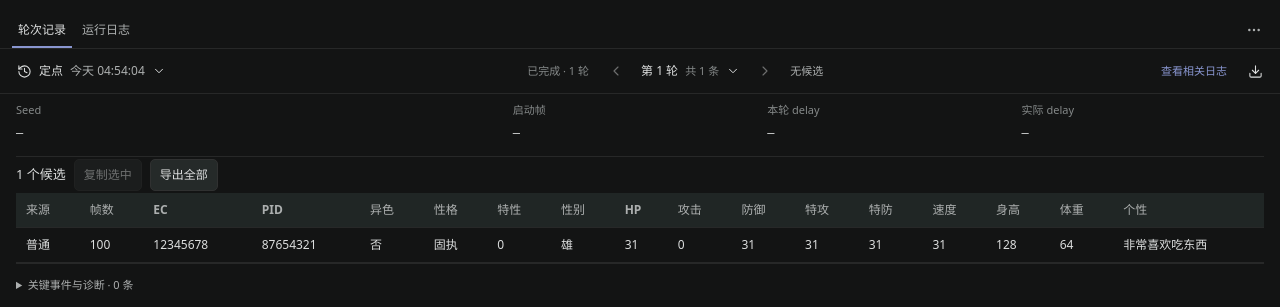
Test case: switching runs clears the selected candidate instead of silently selecting another row
Click the cell "100". click: (112, 244)
box: [80,227,143,262]
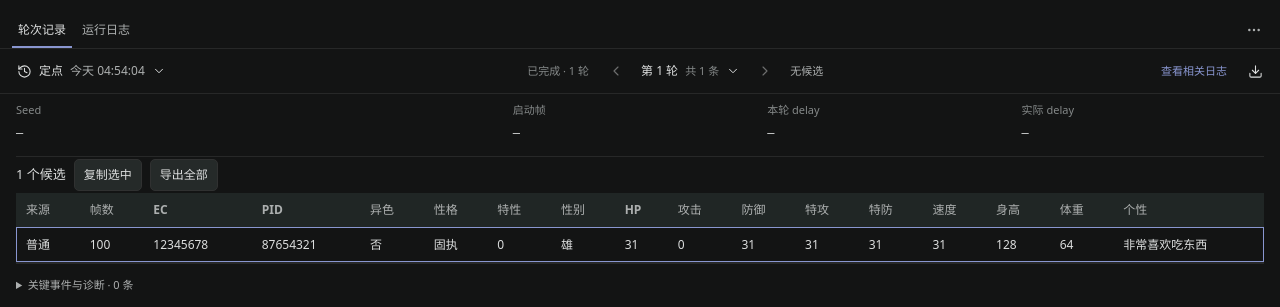
Check: the button "复制选中" is enabled, box [74,158,142,190]
Click the button with aria-label "切换运行记录". click: (91, 71)
box: [10,55,173,87]
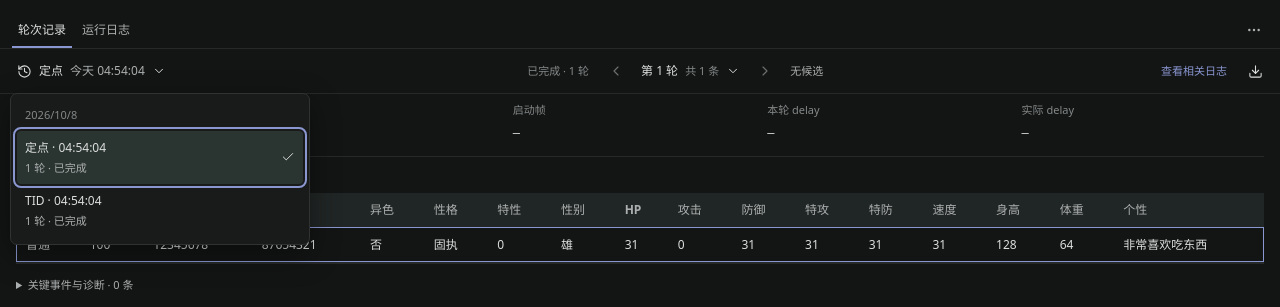
Click the menu item "TID · 04:54:04 1 轮 · 已完成". click: (63, 200)
box: [17,184,303,238]
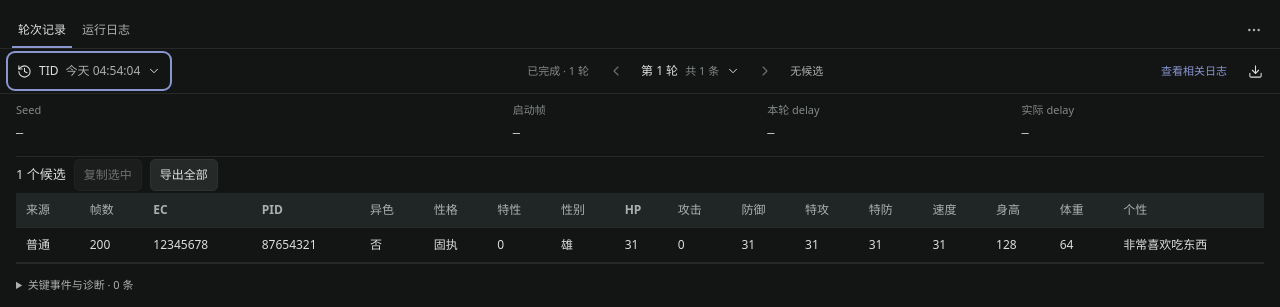
Check: the cell "200" is shown, box [80,227,143,262]
Check: the button "复制选中" is disabled, box [74,158,142,190]
